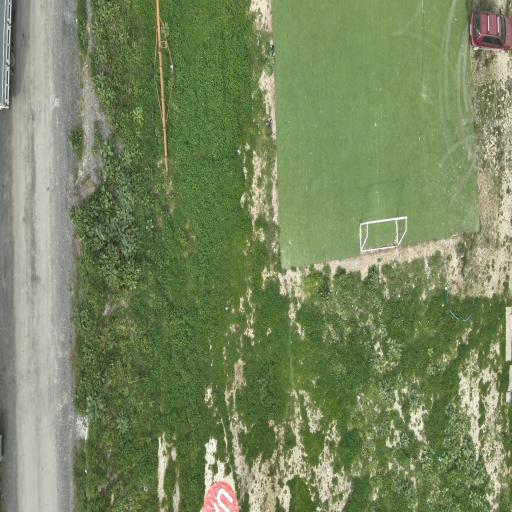car: (470, 12, 511, 53)
truck: (0, 0, 13, 109)
uai: (203, 481, 238, 512)
